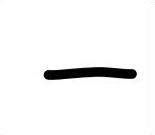minus: (43, 66, 136, 80)
